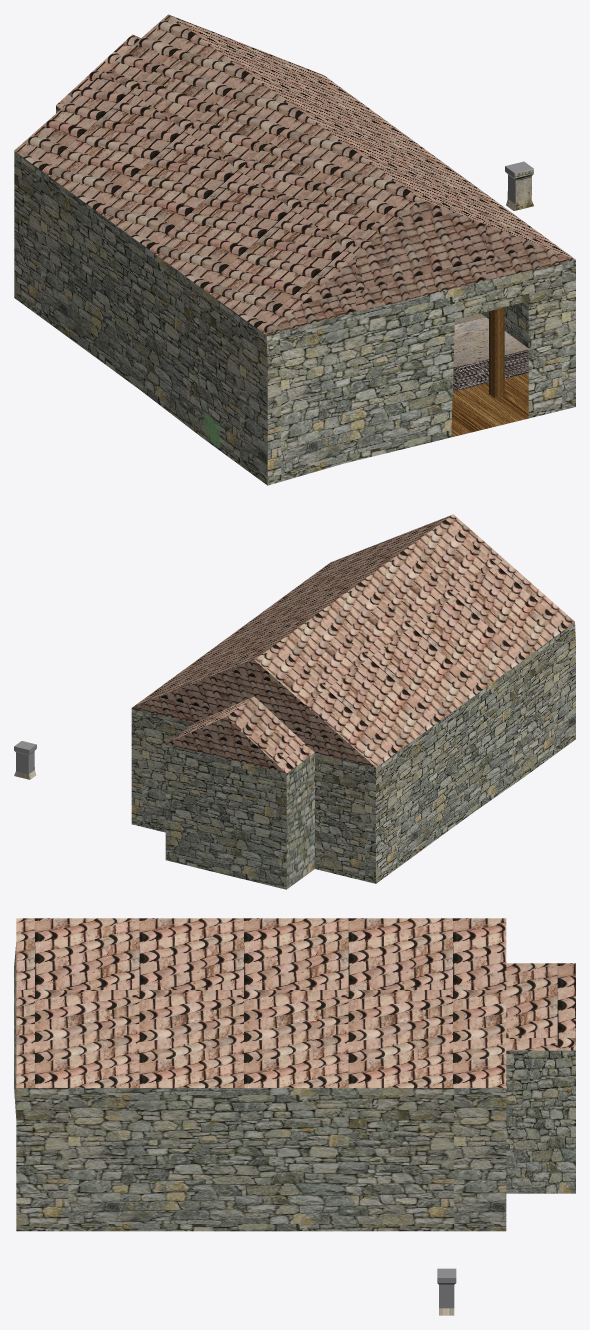
File: altar.FBX
3 renders of one model, top to bottom at view 1: azimuth 30°, elevation 25°; view 2: azimuth 150°, elevation 25°; view 3: azimuth 270°, elevation 25°, orthographic. The views are drawn at different scales.
Visible parts, largest first — view 1: Mithraeum 1, Box009, Box001; view 2: Mithraeum 1, Box001; view 3: Mithraeum 1, Box001.
Boxes of the visible parts, bbox=[...] form: Mithraeum 1: bbox=[14, 14, 575, 485]; Box009: bbox=[489, 307, 504, 397]; Box001: bbox=[505, 161, 533, 210]; Mithraeum 1: bbox=[131, 514, 575, 889]; Box001: bbox=[14, 741, 36, 779]; Mithraeum 1: bbox=[14, 918, 575, 1231]; Box001: bbox=[437, 1268, 456, 1315].
Size of the model in its own units: 22.63 by 11.29 by 23.34.
